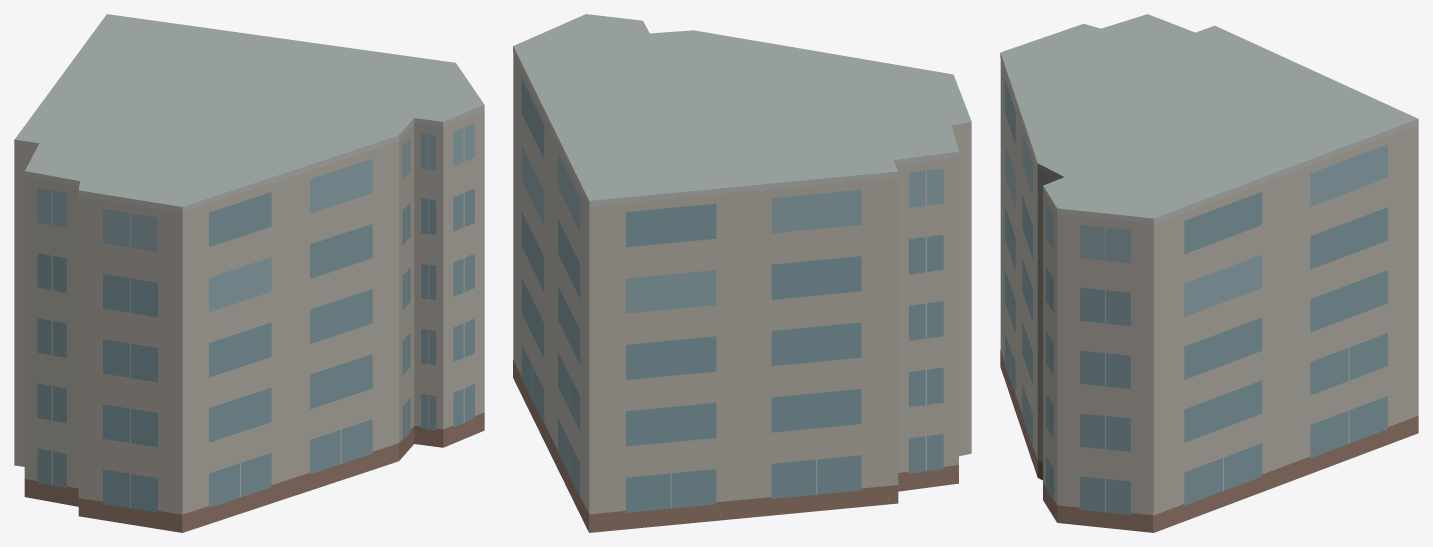
Rendered from survey-upis-32618616.glb.
3 views of the same model, side by side, from view 1: azimuth 30°, elevation 25°; view 2: azimuth 150°, elevation 25°; view 3: azimuth 270°, elevation 25° (orthographic). The views are drawn at different scales.
Visible parts, largest first — view 1: survey-upis-32618616.tmp; view 2: survey-upis-32618616.tmp; view 3: survey-upis-32618616.tmp.
Part boxes in pixels (x1,y1,x2,y2): survey-upis-32618616.tmp: (14, 14, 484, 532); survey-upis-32618616.tmp: (513, 14, 971, 532); survey-upis-32618616.tmp: (1000, 14, 1418, 532).
Bounding box in the file's own units: 19.12 × 13.7 × 16.52.
